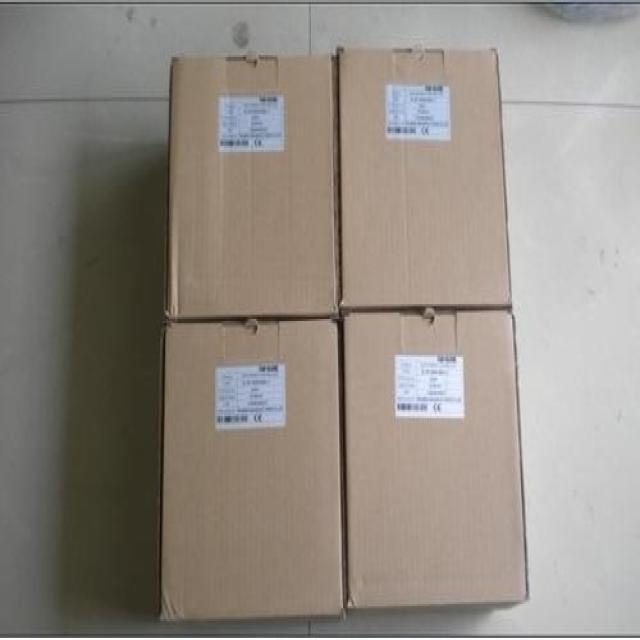box: (157, 319, 346, 625), (343, 308, 527, 610), (338, 46, 513, 313), (164, 57, 342, 319)
